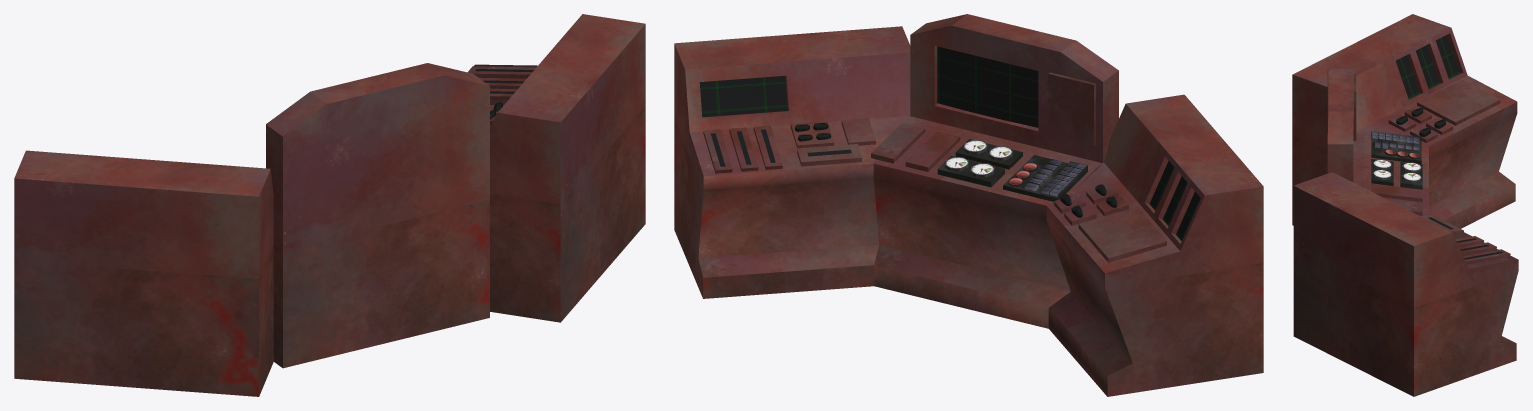
Rendered from controls.obj.
3 renders of one model, left to right at view 1: azimuth 30°, elevation 25°; view 2: azimuth 150°, elevation 25°; view 3: azimuth 270°, elevation 25°, orthographic. The views are drawn at different scales.
Visible parts, largest first — view 1: Cube.004; view 2: Cube.004; view 3: Cube.004.
Boxes of the visible parts, x1,y1,x2,y2 form: Cube.004: (14, 14, 645, 396); Cube.004: (674, 14, 1263, 396); Cube.004: (1292, 14, 1518, 396).
Size of the model in its own units: 4.88 by 1.87 by 2.01.
Materials: 4 (4 with a texture image).
